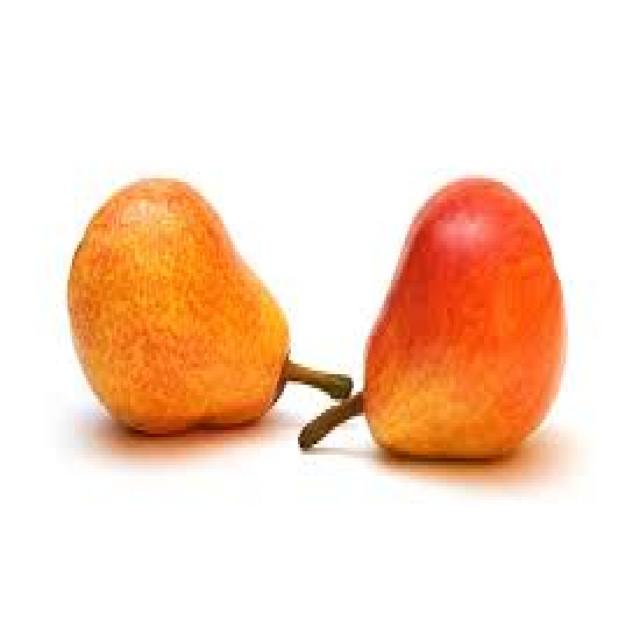pear: (291, 168, 575, 479), (63, 168, 319, 444)
